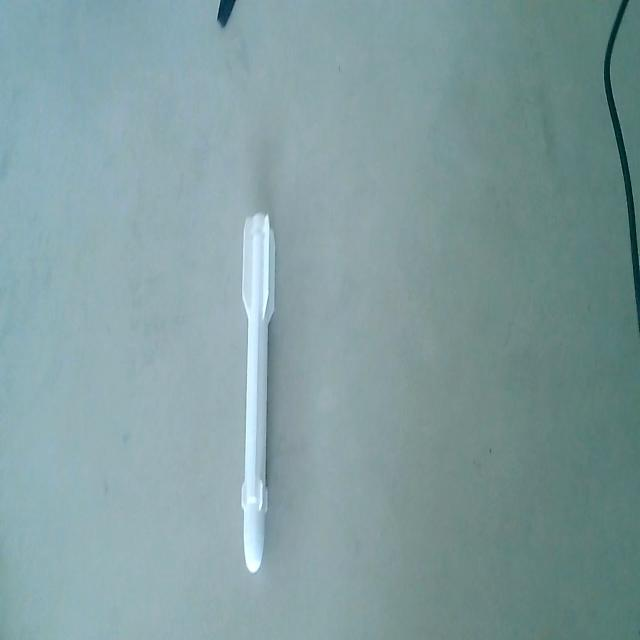Rocket: (240, 212, 278, 574)
